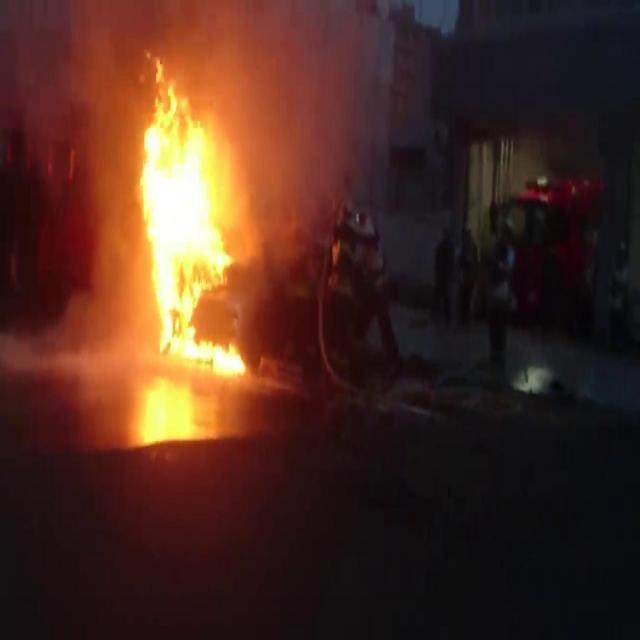Fire: (136, 53, 264, 382)
